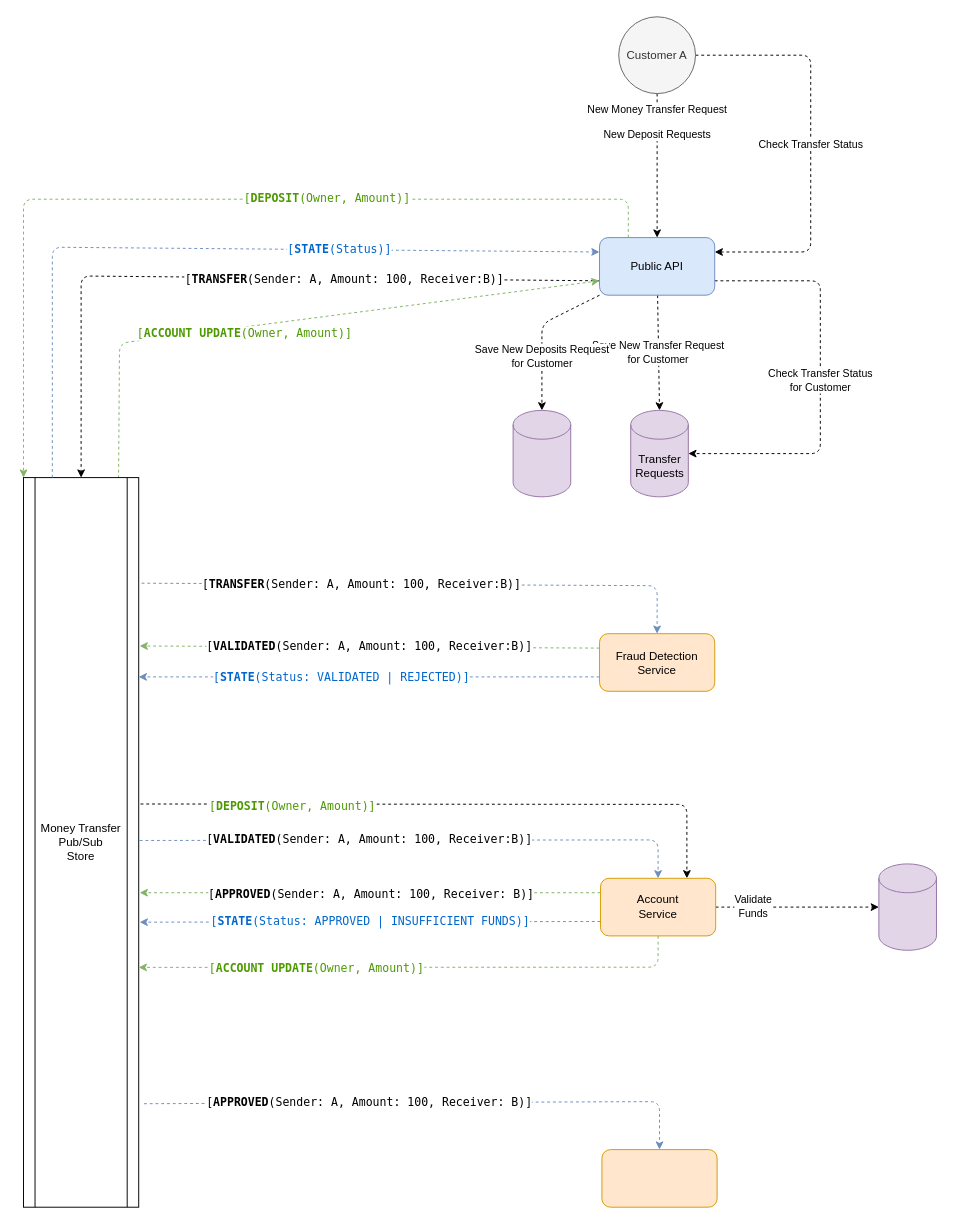
Image size: 953x1224. Some labels were removed from this diagram. The shapes that lost their labels are listed below. From the top down, each one's centre as x and y in pixels, then its label:
At pixel 541 453: "Accounts (Copy)".
At pixel 907 906: "Accounts (Origin)".
At pixel 659 1178: "Notification Service".
